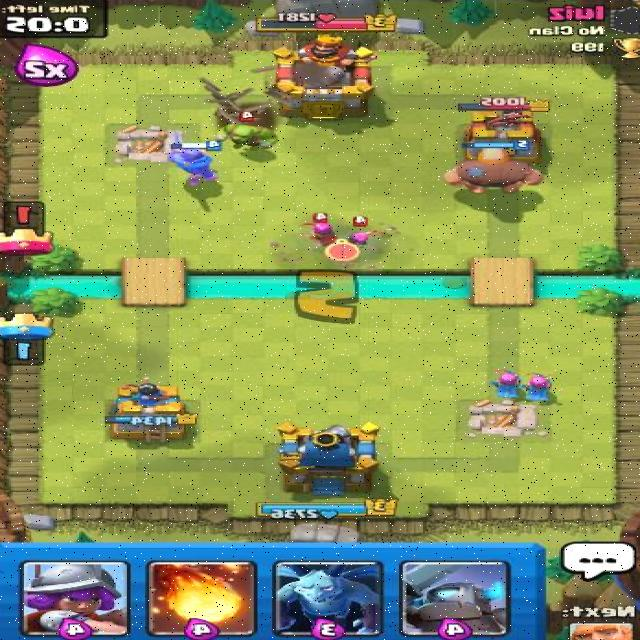Enemy-Archer: (340, 214, 383, 252), (296, 212, 338, 248)
Enemy-Brawler: (214, 111, 282, 153)
Player-Archer: (488, 366, 532, 400), (522, 370, 559, 403)
Player-Giant: (440, 137, 548, 195)
Player-Knight: (162, 139, 224, 186)
